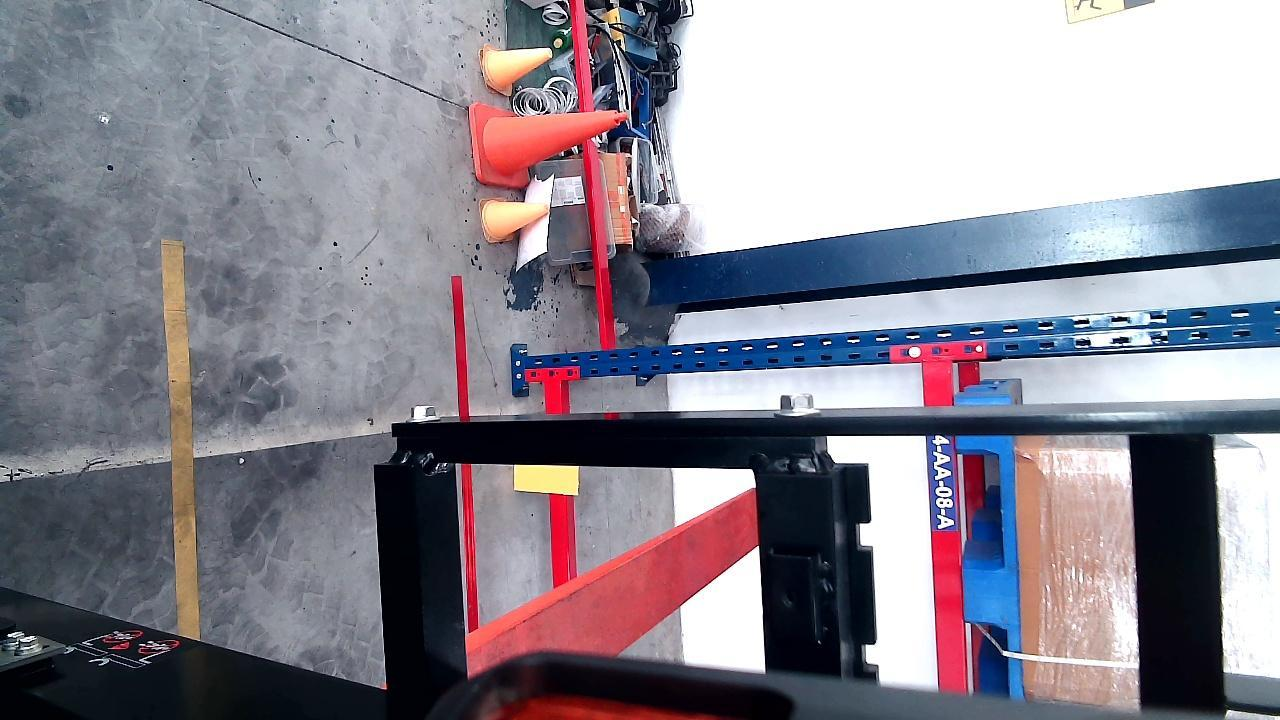red_line: (449, 271, 477, 630)
yellow_line: (163, 238, 199, 642)
